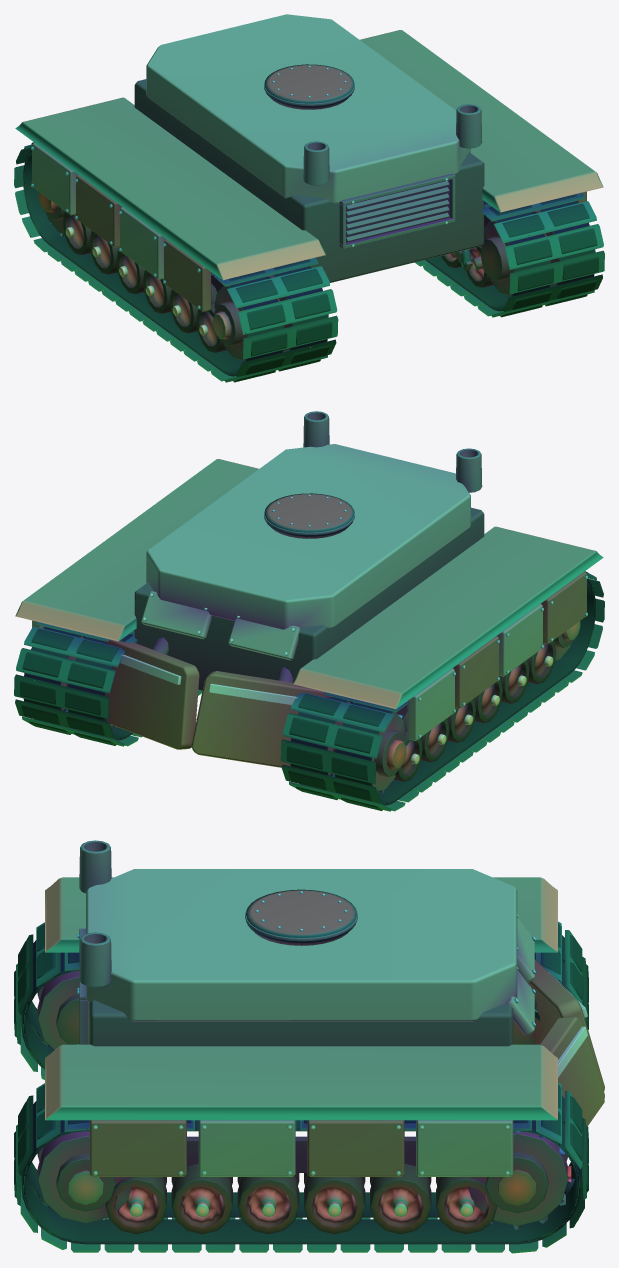
File: legs_tread_heavy.glb
3 renders of one model, top to bottom at view 1: azimuth 30°, elevation 25°; view 2: azimuth 150°, elevation 25°; view 3: azimuth 270°, elevation 25°, orthographic. The views are drawn at different scales.
Parts seen in each view (by area): view 1: Body__armor, Track_L__armor_sub, Body__dark, Track_L__rubber, Track_R__armor_sub, Track_L__gunmetal, Track_R__rubber, Body__gunmetal, Track_R__gunmetal, Track_L__armor_oxide, Track_L__armor, Track_R__dark (+2 smaller); view 2: Body__armor, Track_L__armor_sub, Body__armor_oxide, Track_L__rubber, Track_R__armor_sub, Body__dark, Track_L__gunmetal, Track_R__rubber, Track_R__gunmetal, Track_L__armor_oxide, Track_L__armor, Body__gunmetal (+3 smaller); view 3: Body__armor, Track_R__armor_sub, Track_R__rubber, Body__dark, Track_R__gunmetal, Track_R__armor_oxide, Track_R__armor, Body__armor_oxide, Track_L__armor_sub, Track_L__rubber, Track_L__gunmetal, Body__gunmetal (+4 smaller).
Part boxes in pixels (x1,y1,x2,y2): Body__armor: (146, 14, 470, 203); Track_L__armor_sub: (15, 97, 325, 345); Body__dark: (134, 64, 484, 282); Track_L__rubber: (23, 142, 332, 382); Track_R__armor_sub: (360, 30, 603, 280); Track_L__gunmetal: (14, 144, 338, 382); Track_R__rubber: (425, 194, 598, 317); Body__gunmetal: (264, 80, 482, 248); Track_R__gunmetal: (415, 193, 604, 317); Track_L__armor_oxide: (38, 175, 211, 311); Track_L__armor: (32, 142, 165, 279); Track_R__dark: (461, 215, 546, 281); Body__armor: (141, 444, 470, 660); Track_L__armor_sub: (293, 526, 603, 774); Body__armor_oxide: (103, 640, 332, 767); Track_L__rubber: (286, 571, 595, 810); Track_R__armor_sub: (15, 459, 258, 641); Body__dark: (134, 493, 484, 690); Track_L__gunmetal: (280, 572, 604, 811); Track_R__rubber: (20, 627, 135, 745); Track_R__gunmetal: (14, 621, 202, 746); Track_L__armor_oxide: (387, 571, 586, 769); Track_L__armor: (407, 604, 542, 740); Body__gunmetal: (152, 411, 482, 682); Body__armor: (86, 869, 534, 1035); Track_R__armor_sub: (45, 1044, 557, 1226); Track_R__rubber: (14, 1084, 588, 1244); Body__dark: (89, 889, 540, 1046); Track_R__gunmetal: (16, 1082, 586, 1253); Track_R__armor_oxide: (89, 1120, 535, 1205); Track_R__armor: (198, 1120, 513, 1176); Body__armor_oxide: (528, 959, 604, 1126); Track_L__armor_sub: (45, 877, 557, 952); Track_L__rubber: (14, 923, 588, 1069); Track_L__gunmetal: (16, 921, 586, 1079); Body__gunmetal: (79, 840, 357, 1044).
Bounding box in the file's own units: 2.86 × 1.44 × 3.04.
